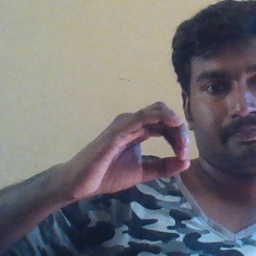O: (79, 100, 195, 206)
